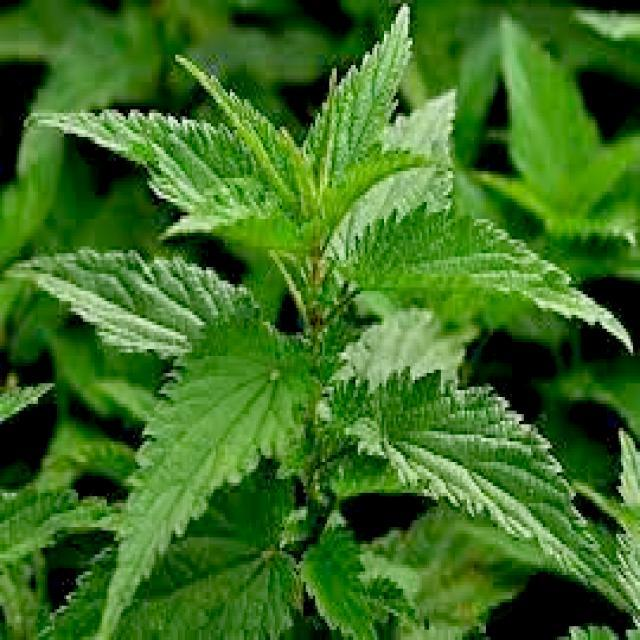Stinging Nettle: (92, 36, 582, 584)
